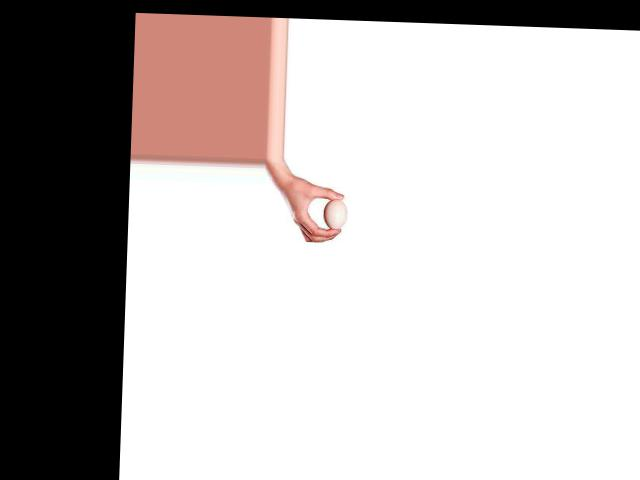egg: (322, 198, 347, 229)
